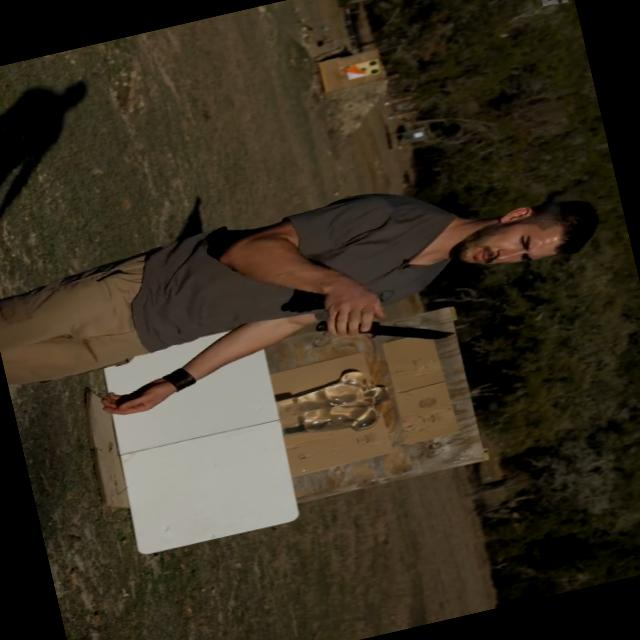knife: (310, 280, 465, 372)
